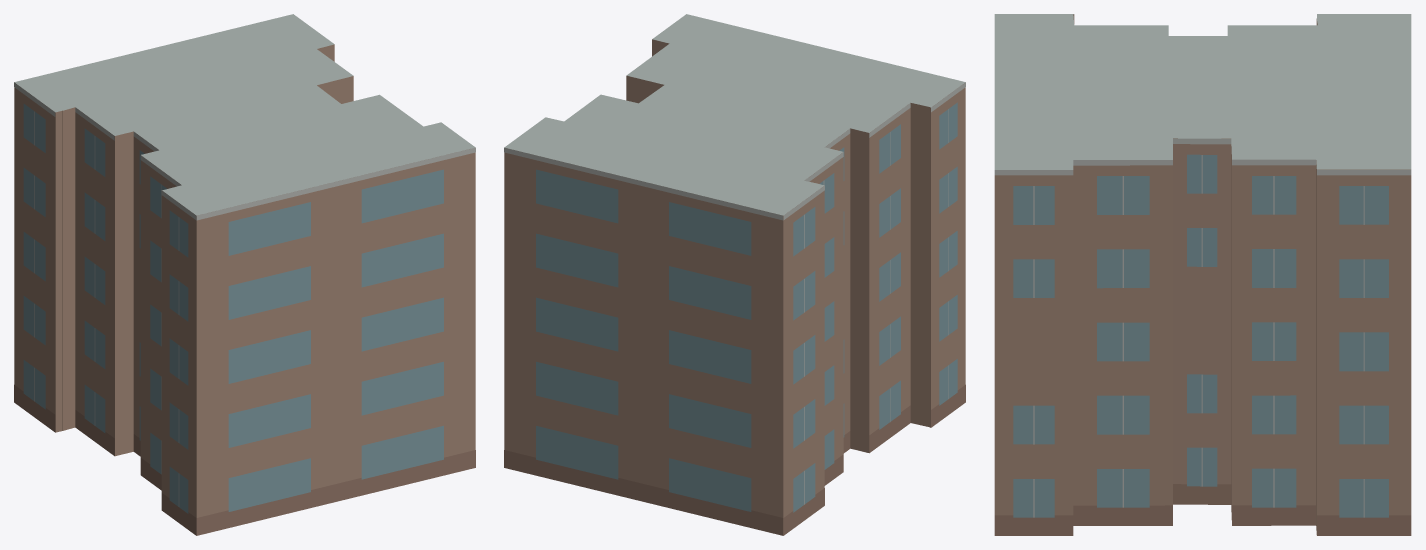
The model's file is survey-upis-33037234.glb.
The picture shows the model from 3 angles, left to right: view 1: azimuth 30°, elevation 25°; view 2: azimuth 150°, elevation 25°; view 3: azimuth 270°, elevation 25°; orthographic projection. The views are drawn at different scales.
Visible parts, largest first — view 1: survey-upis-33037234.tmp; view 2: survey-upis-33037234.tmp; view 3: survey-upis-33037234.tmp.
Part boxes in pixels (x1,y1,x2,y2): survey-upis-33037234.tmp: (14,14,475,535); survey-upis-33037234.tmp: (504,14,965,535); survey-upis-33037234.tmp: (994,14,1411,535).
Size of the model in its own units: 14.53 by 15.9 by 16.43.
